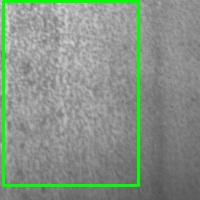pitted_surface: (3, 1, 138, 185)
